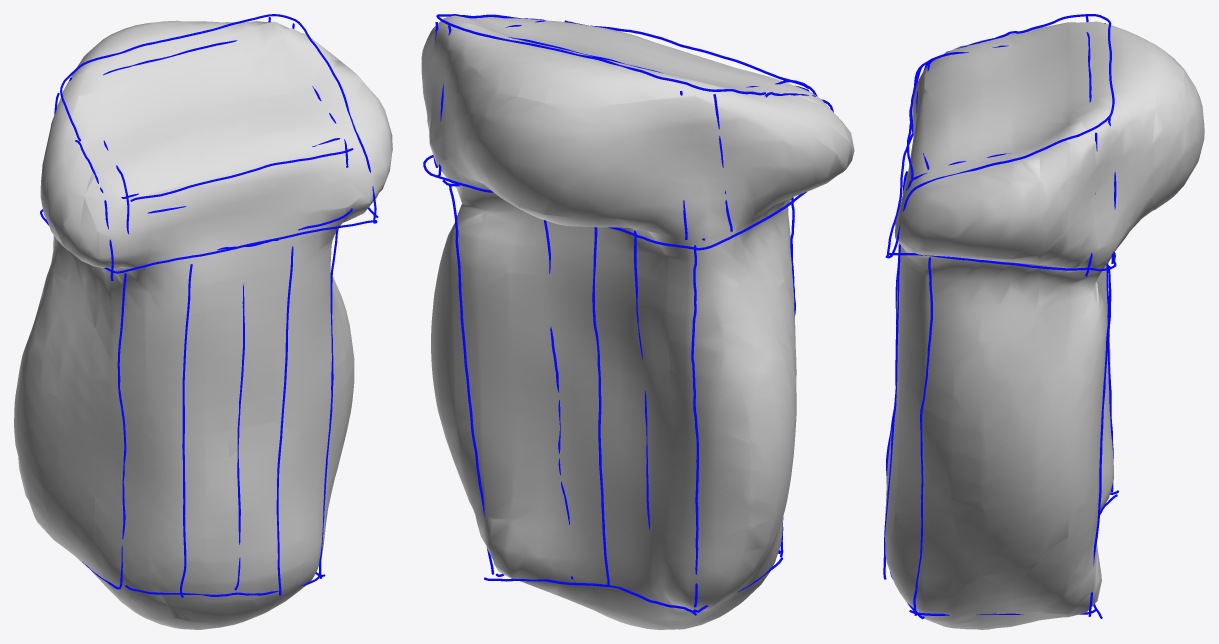
File: scaffold_sketch_P2_trash_sketch_proxy.glb
3 views of the same model, side by side, from view 1: azimuth 30°, elevation 25°; view 2: azimuth 150°, elevation 25°; view 3: azimuth 270°, elevation 25° (orthographic). The views are drawn at different scales.
Parts seen in each view (by area): view 1: scaffold_sketch_P2_trash_surface, scaffold_sketch_P2_trash; view 2: scaffold_sketch_P2_trash_surface, scaffold_sketch_P2_trash; view 3: scaffold_sketch_P2_trash_surface, scaffold_sketch_P2_trash.
Part boxes in pixels (x1,y1,x2,y2): scaffold_sketch_P2_trash_surface: [14, 20, 392, 629]; scaffold_sketch_P2_trash: [40, 14, 378, 597]; scaffold_sketch_P2_trash_surface: [421, 15, 854, 629]; scaffold_sketch_P2_trash: [423, 14, 833, 615]; scaffold_sketch_P2_trash_surface: [885, 21, 1204, 629]; scaffold_sketch_P2_trash: [883, 14, 1118, 619].
Size of the model in its own units: 0.7289 by 1.09 by 0.5562.
